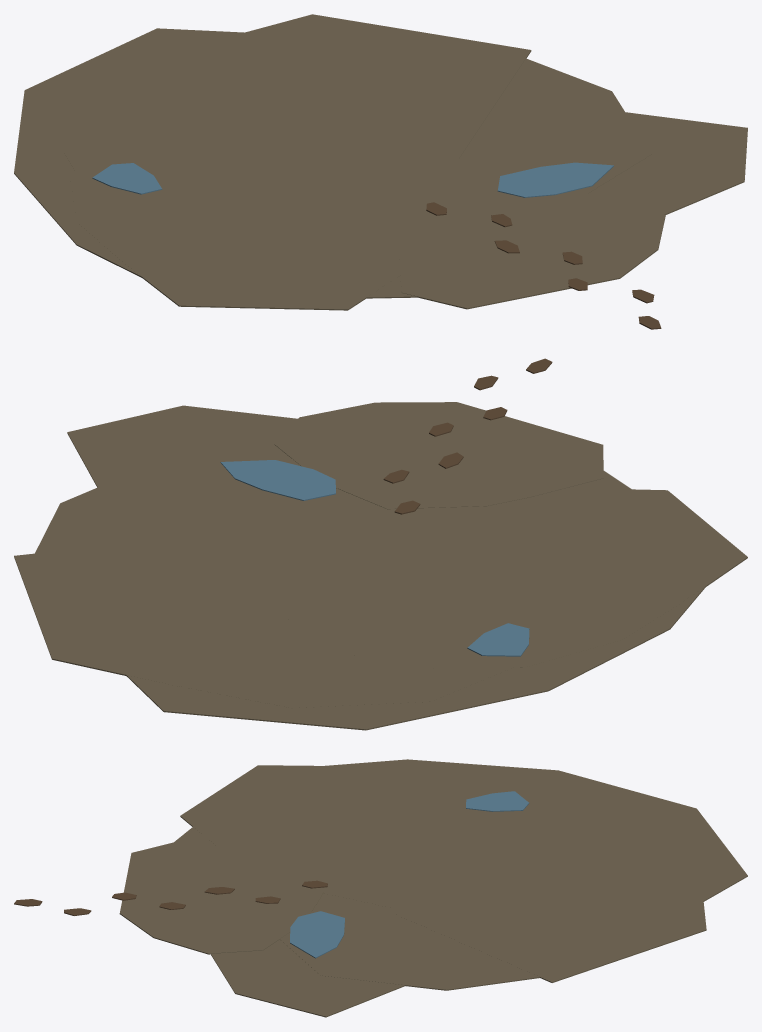
Rendered from work-wet-patch.glb.
3 renders of one model, top to bottom at view 1: azimuth 30°, elevation 25°; view 2: azimuth 150°, elevation 25°; view 3: azimuth 270°, elevation 25°, orthographic. The views are drawn at different scales.
Visible parts, largest first — view 1: work-wet-patch; view 2: work-wet-patch; view 3: work-wet-patch.
Boxes of the visible parts, bbox=[...] form: work-wet-patch: bbox=[14, 14, 747, 329]; work-wet-patch: bbox=[14, 358, 747, 730]; work-wet-patch: bbox=[14, 759, 747, 1017].
Size of the model in its own units: 6.99 by 0.0269 by 8.43.
Materials: 1 (1 with a texture image).
